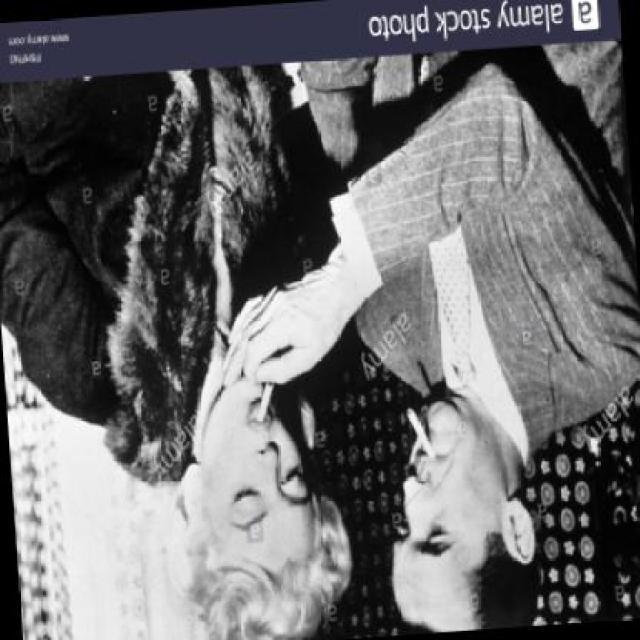smoke: (402, 403, 436, 460), (248, 370, 276, 424)
